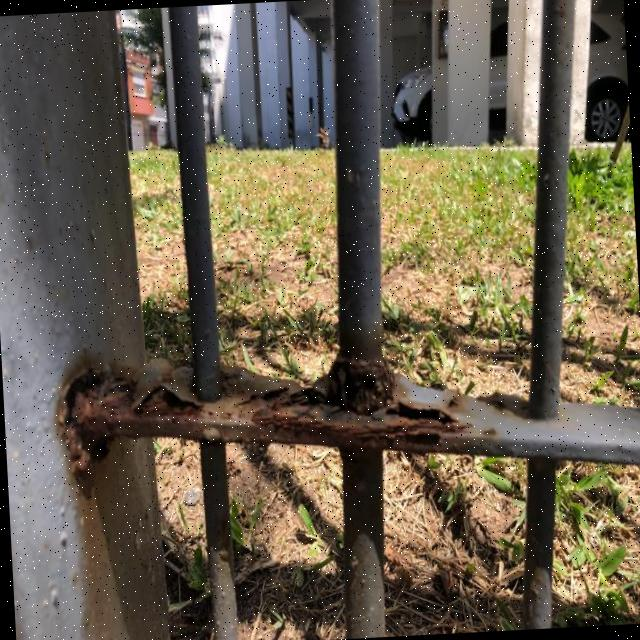Corrosion: (55, 328, 640, 640)
